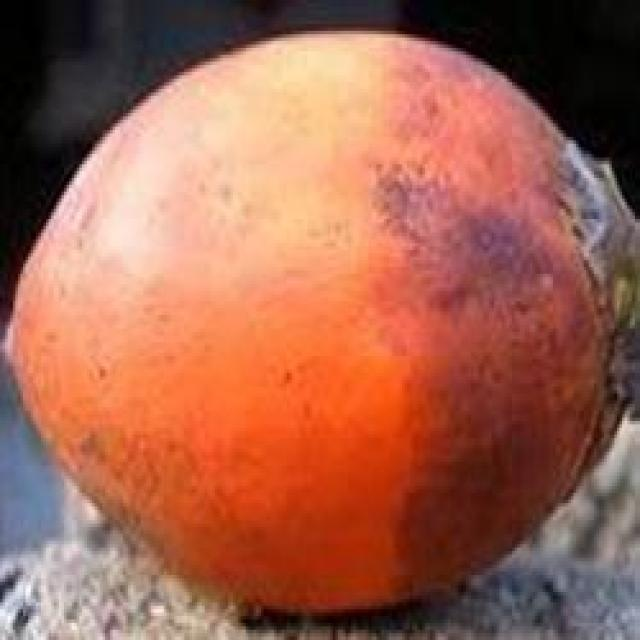good: (0, 31, 637, 626)
